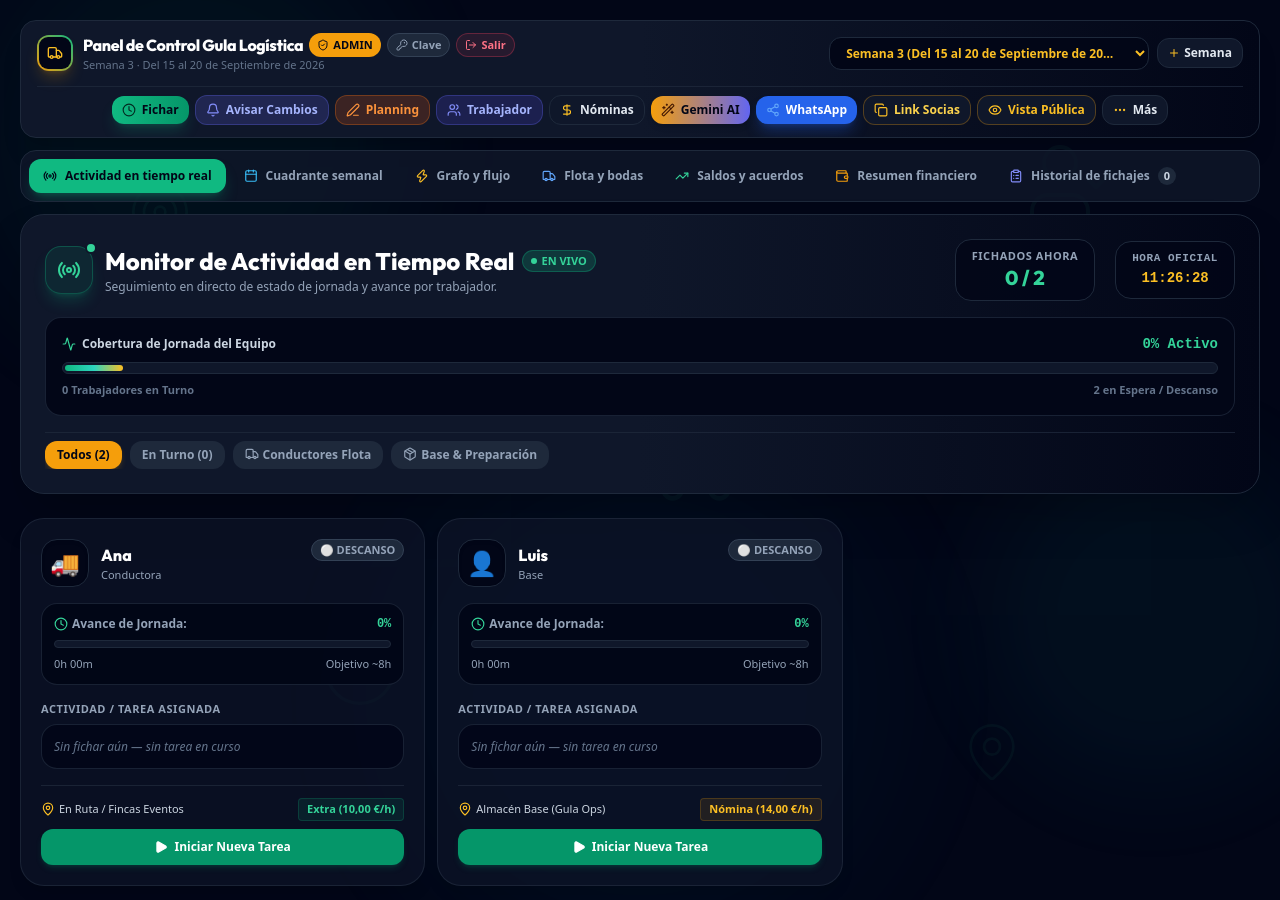
Scenario: PartnerDashboardView › las demás pestañas se bajan al abrirlas: mientras llega se ve «Cargando…» y luego su contenido
This screenshot has width=1280, height=900.
Step 1. Click the tab "Historial de fichajes 0" → (1092, 176), box [995, 158, 1190, 192]
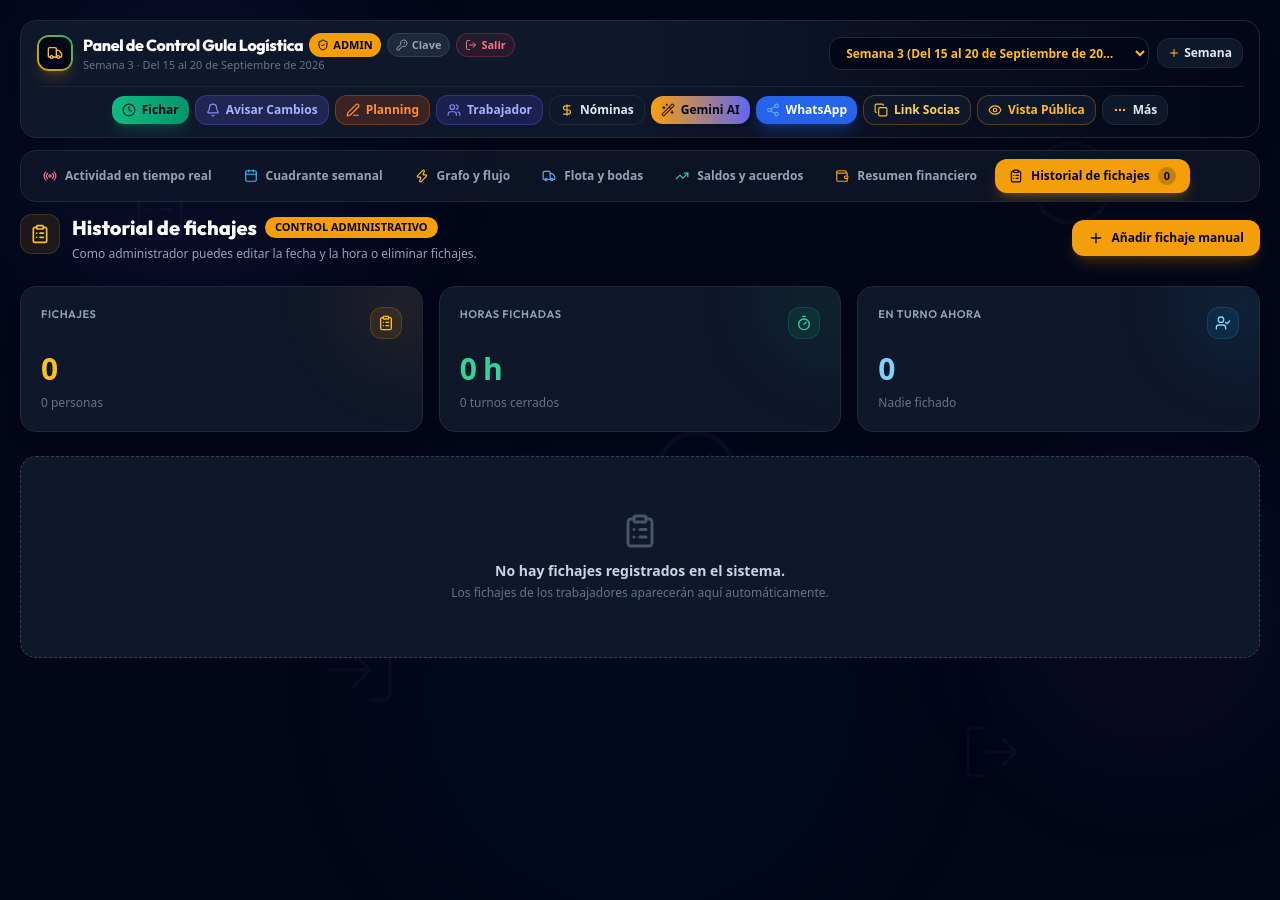
expect the heading "Historial de fichajes" is shown: met, box [72, 214, 257, 242]
